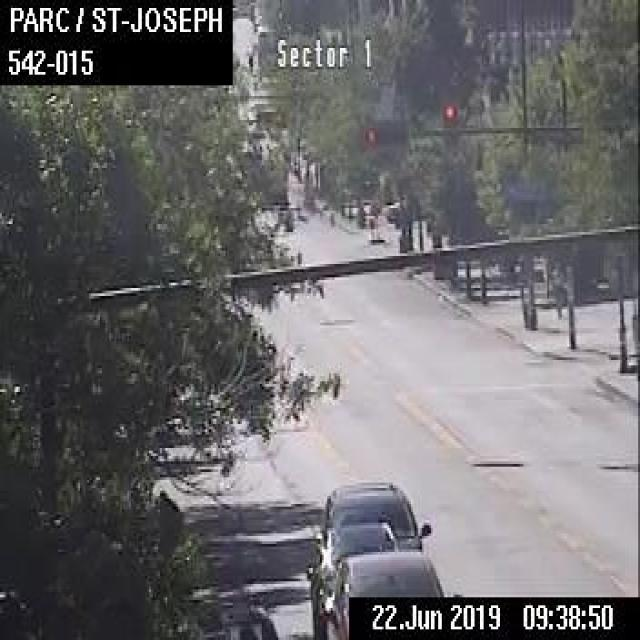vehicle: (309, 550, 462, 638), (306, 520, 400, 637), (313, 480, 431, 550), (196, 600, 278, 637)
